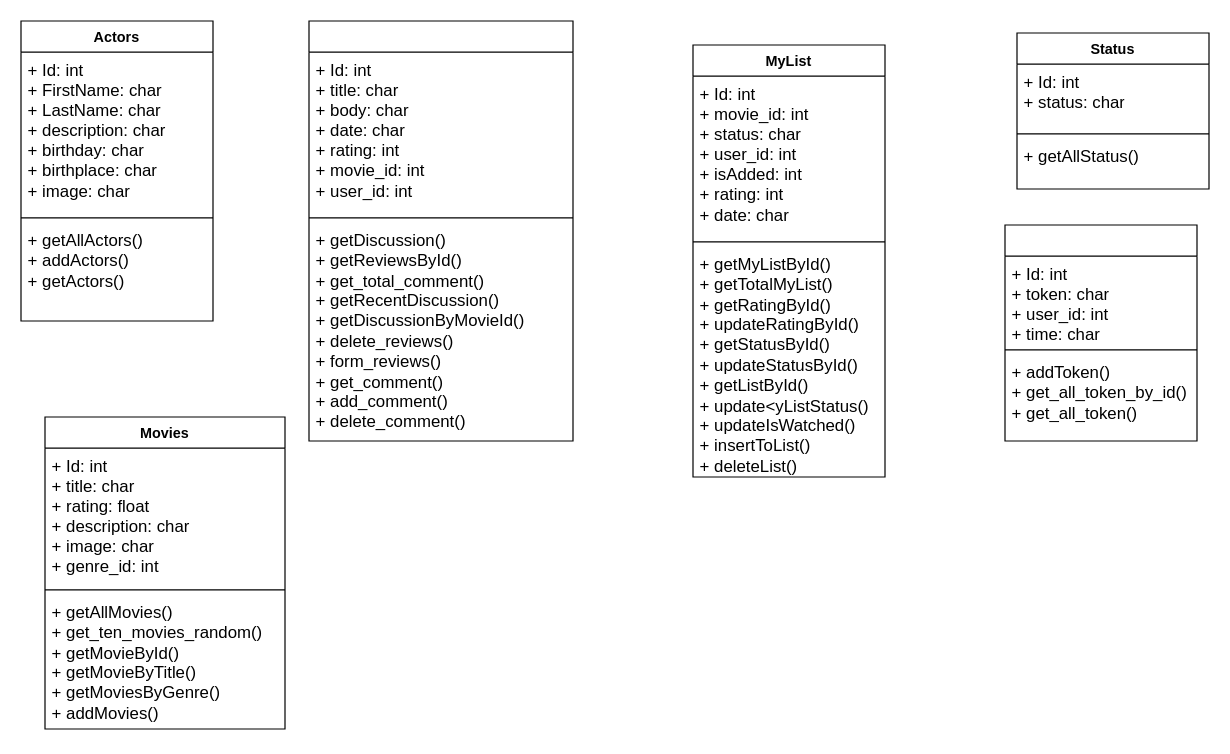
Image size: 1230x754. Some labels were removed from this diagram. Here are the shapes that lost their labels. From the top down, the box of each, then its label:
(308, 20, 573, 441): Movies_discussions
(1004, 224, 1197, 441): Tokens
